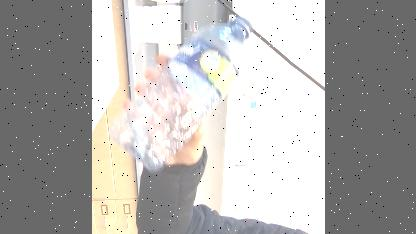Plastic Bottle: (106, 12, 254, 174)
